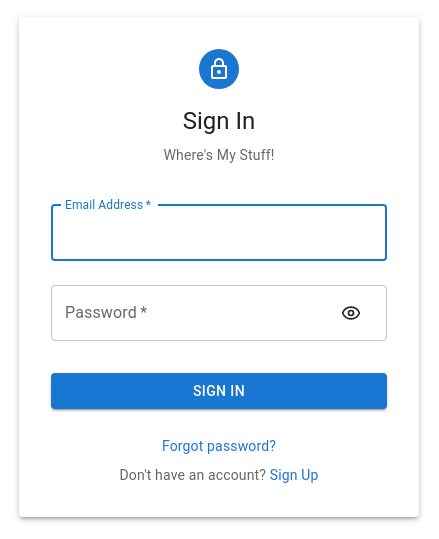
Preservation Property Tests: Authentication Flow Behavior › should display SMS verification form for SMS_MFA challenge
In the field labelled "Email Address *": (219,233) [51,205,387,261], type "test@example.com"
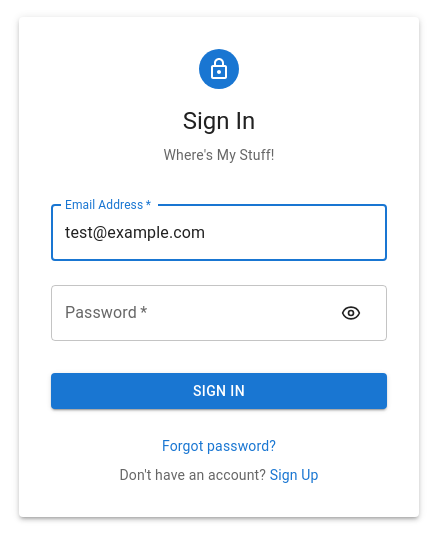
In the password field labelled "Password *": (190,313) [51,285,329,341], type "ValidPassword123!"
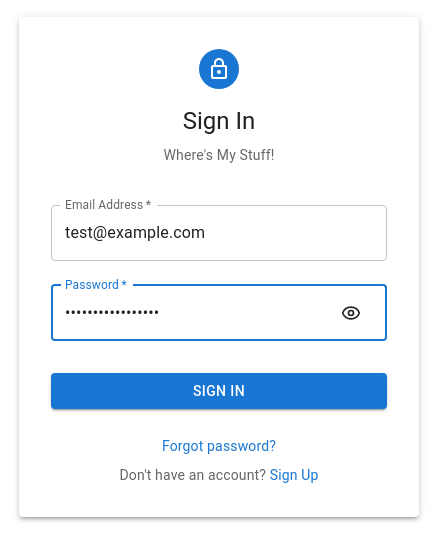
Submit form
Click the button "Sign In": (219,391) [51,373,387,410]
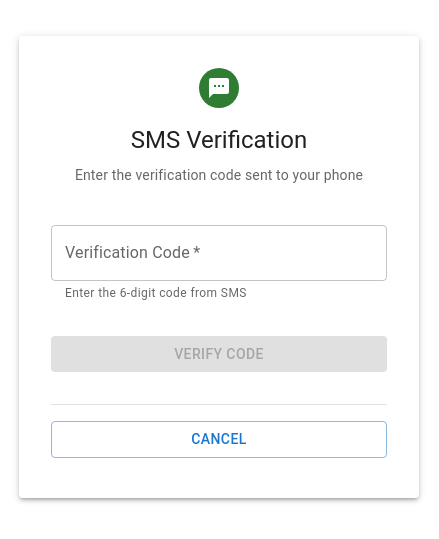
Expected: the heading "SMS Verification" is shown, [131,124,307,156]
Expected: the field labelled "Verification Code *" is shown, [51,225,387,281]
